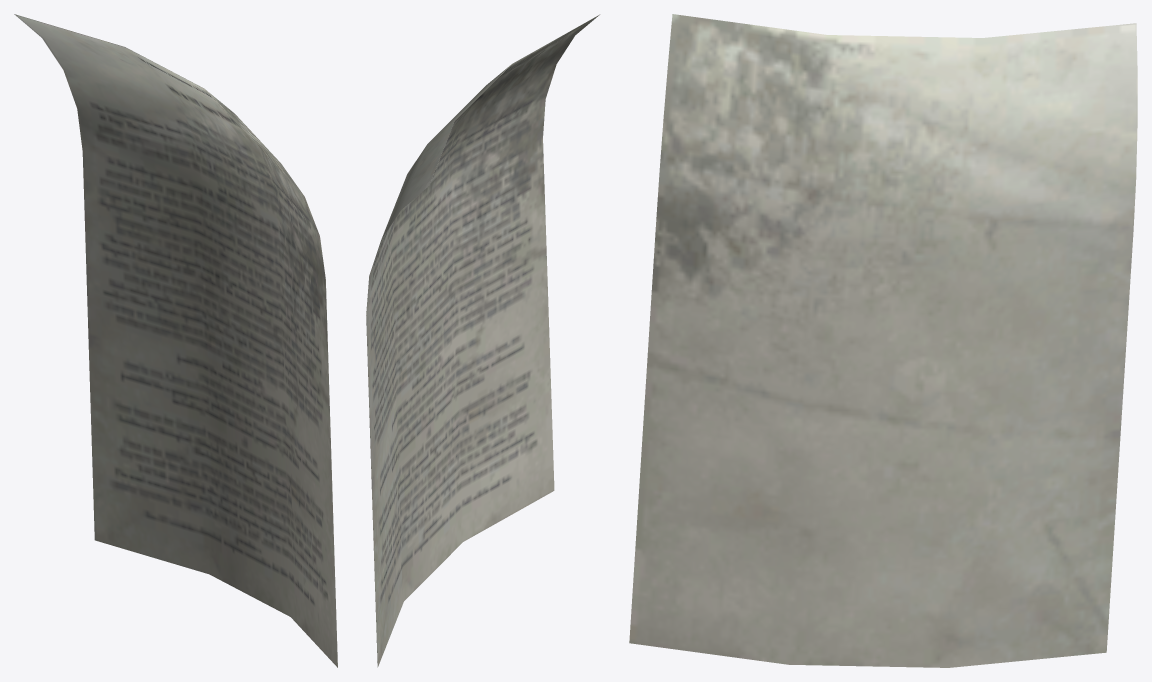
The model's file is Paper_C.mo.007.fbx.
3 views of the same model, side by side, from view 1: azimuth 30°, elevation 25°; view 2: azimuth 150°, elevation 25°; view 3: azimuth 270°, elevation 25° (orthographic). The views are drawn at different scales.
Visible parts, largest first — view 1: Paper_C.mo.007; view 2: Paper_C.mo.007; view 3: Paper_C.mo.007.
Part boxes in pixels (bbox=[...]): Paper_C.mo.007: bbox=[14, 14, 337, 667]; Paper_C.mo.007: bbox=[366, 14, 600, 667]; Paper_C.mo.007: bbox=[629, 14, 1137, 667].
Size of the model in its own units: 10.07 by 44.36 by 33.11.
